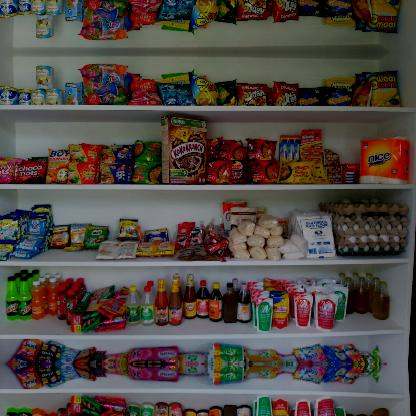Koko-Krunch: (161, 114, 207, 184)
